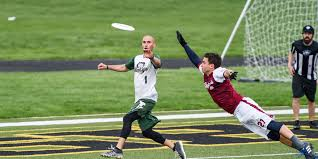disc: (111, 21, 137, 34)
